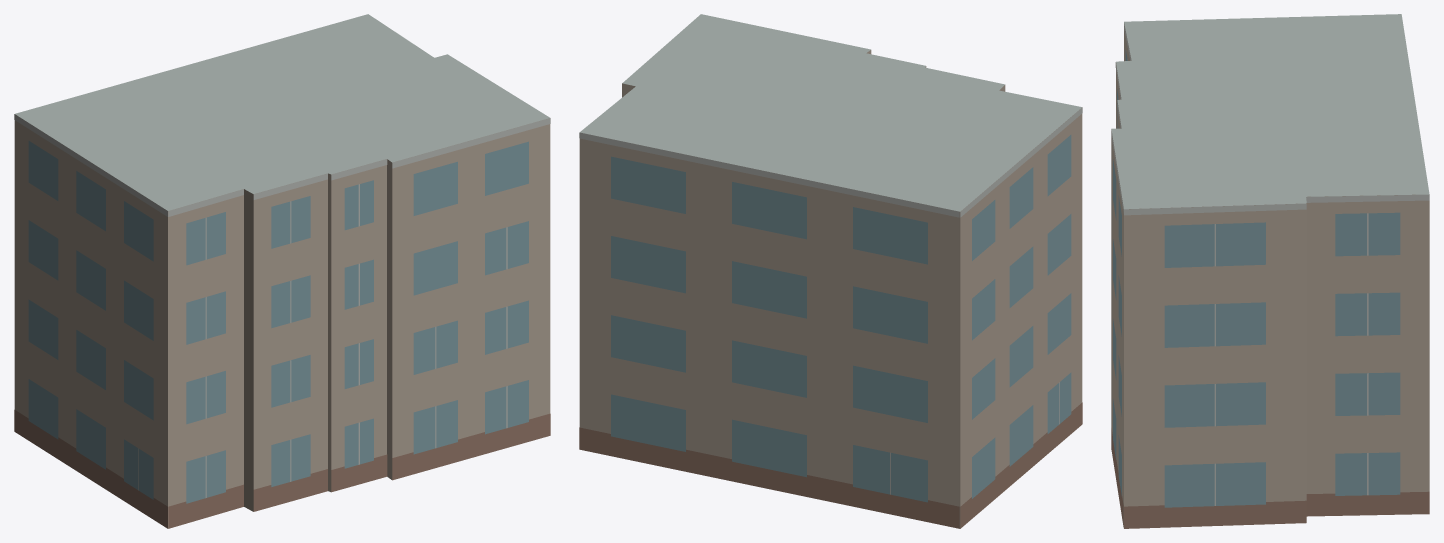
File: survey-upis-32705405.glb
3 views of the same model, side by side, from view 1: azimuth 30°, elevation 25°; view 2: azimuth 150°, elevation 25°; view 3: azimuth 270°, elevation 25° (orthographic).
Parts seen in each view (by area): view 1: survey-upis-32705405.tmp; view 2: survey-upis-32705405.tmp; view 3: survey-upis-32705405.tmp.
Boxes of the visible parts, x1=… form: survey-upis-32705405.tmp: x1=14, y1=14, x2=550, y2=528; survey-upis-32705405.tmp: x1=579, y1=14, x2=1082, y2=528; survey-upis-32705405.tmp: x1=1111, y1=14, x2=1429, y2=528.
Bounding box in the file's own units: 16.78 × 12.8 × 11.56.
